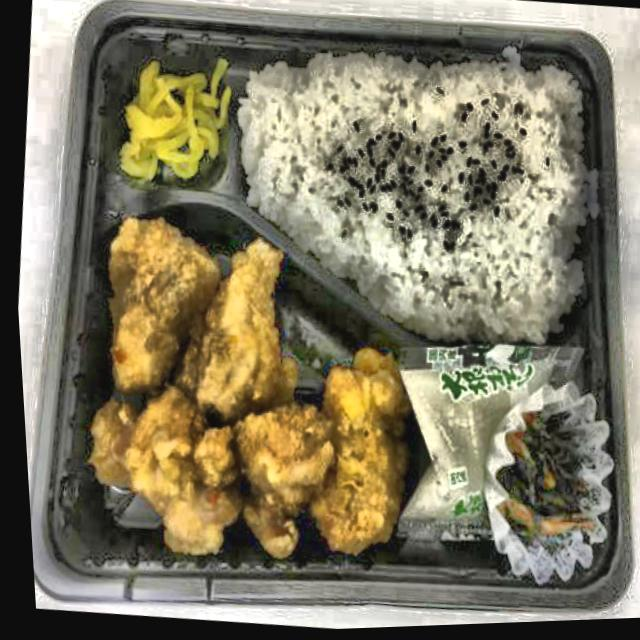Food: (272, 60, 575, 327)
